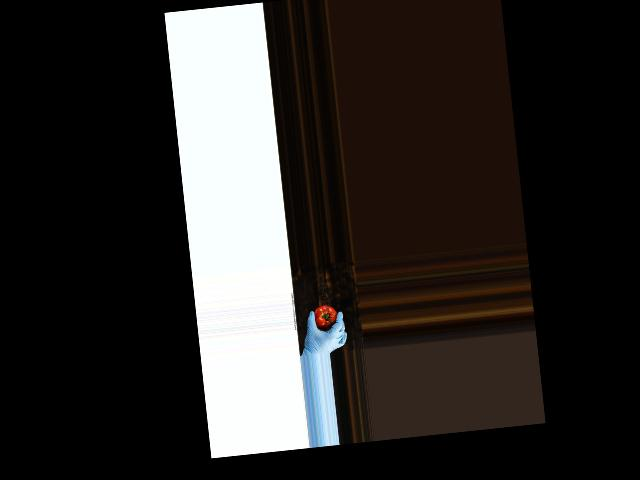tomato: (313, 303, 338, 330)
